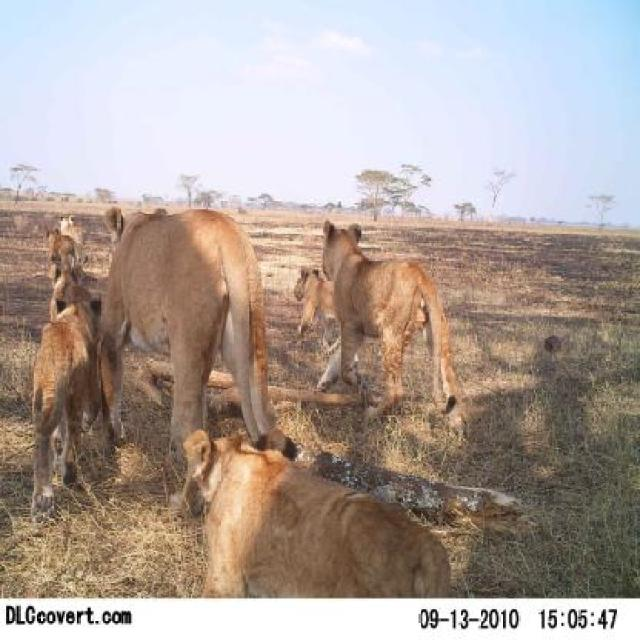Lion: (85, 143, 268, 460), (285, 191, 489, 457), (177, 421, 458, 594)
